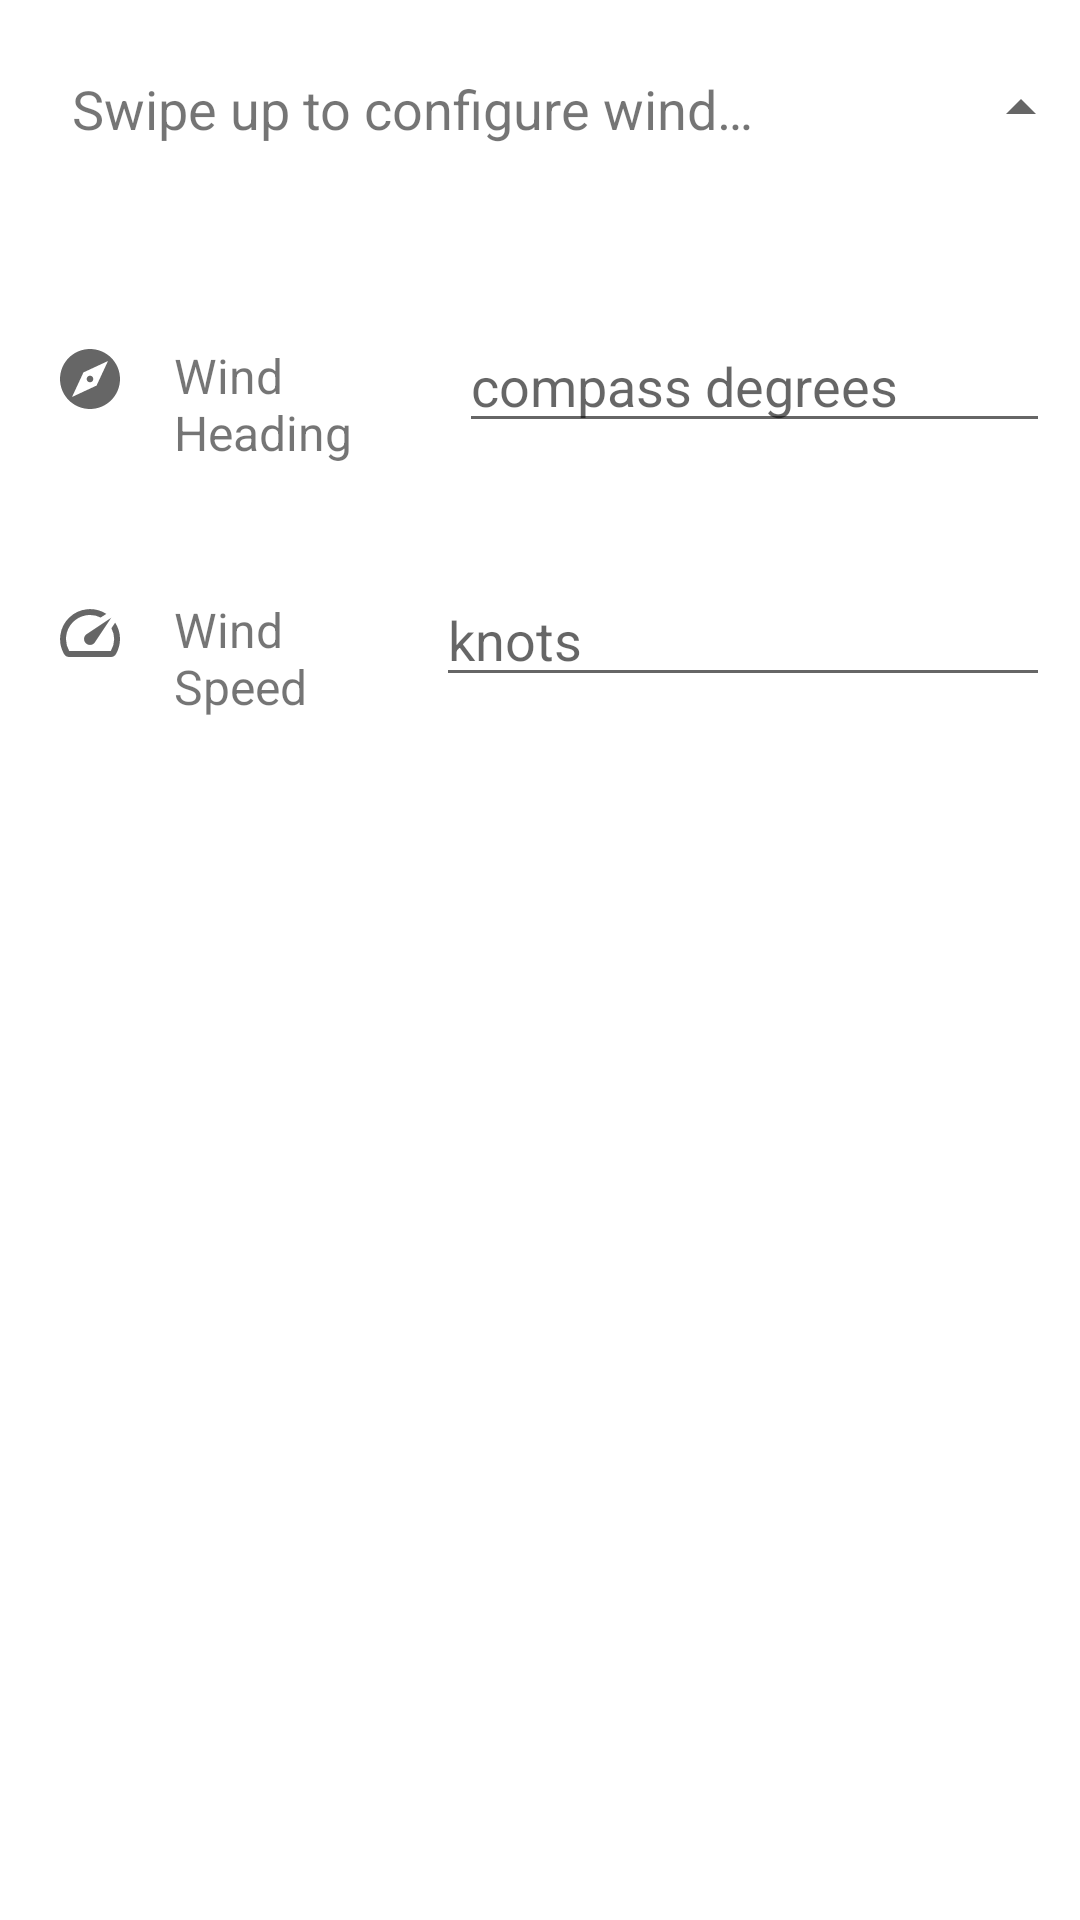

Icons on this 1080*1920 Android screen, each with its box as (x1, y1, x2, y2):
arrow drop up: (1006, 99, 1036, 114)
explore: (60, 349, 120, 409)
